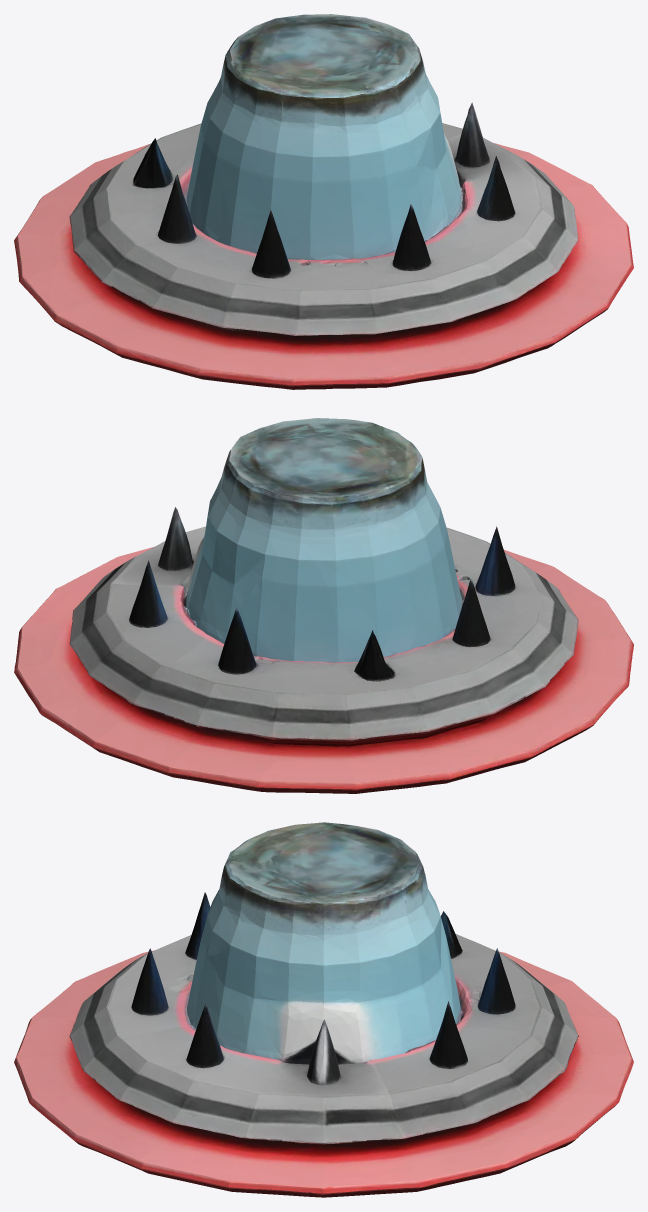
File: nano_t04.glb
3 views of the same model, one above another, from view 1: azimuth 30°, elevation 25°; view 2: azimuth 150°, elevation 25°; view 3: azimuth 270°, elevation 25° (orthographic).
Visible parts, largest first — view 1: geometry_0; view 2: geometry_0; view 3: geometry_0.
Part boxes in pixels (x1,y1,x2,y2): geometry_0: (14,14,633,389); geometry_0: (14,418,633,793); geometry_0: (14,822,633,1197).
Size of the model in its own units: 2 by 1.05 by 2.
1 material, 1 textured.
